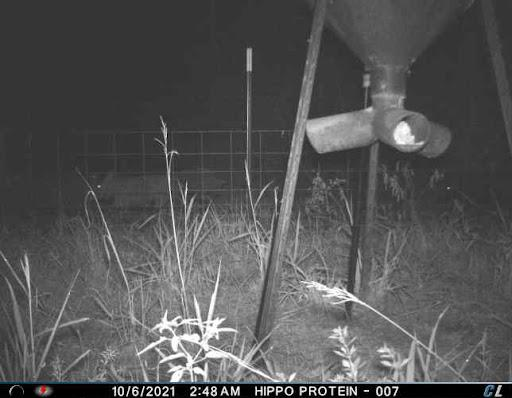Hog: (87, 163, 181, 225)
